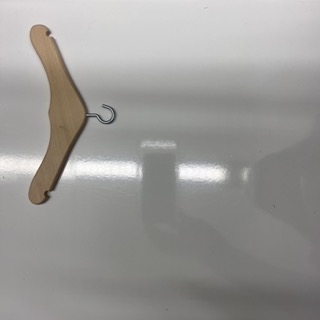rack: (30, 24, 116, 205)
